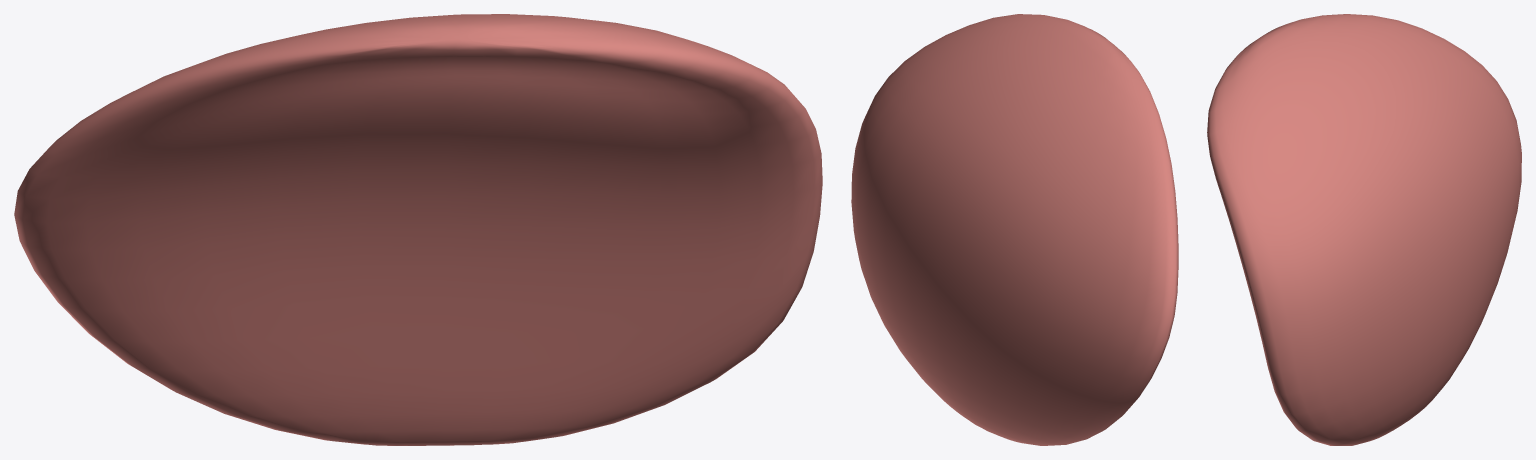
3 renders of one model, left to right at view 1: azimuth 30°, elevation 25°; view 2: azimuth 150°, elevation 25°; view 3: azimuth 270°, elevation 25°, orthographic. The views are drawn at different scales.
Parts seen in each view (by area): view 1: ZA_a948d37d76e6e62b; view 2: ZA_a948d37d76e6e62b; view 3: ZA_a948d37d76e6e62b.
Boxes of the visible parts, x1,y1,x2,y2 form: ZA_a948d37d76e6e62b: [14, 14, 822, 445]; ZA_a948d37d76e6e62b: [851, 14, 1178, 445]; ZA_a948d37d76e6e62b: [1207, 14, 1521, 445].
Bounding box in the file's own units: 0.0229 × 0.0177 × 0.0143.
